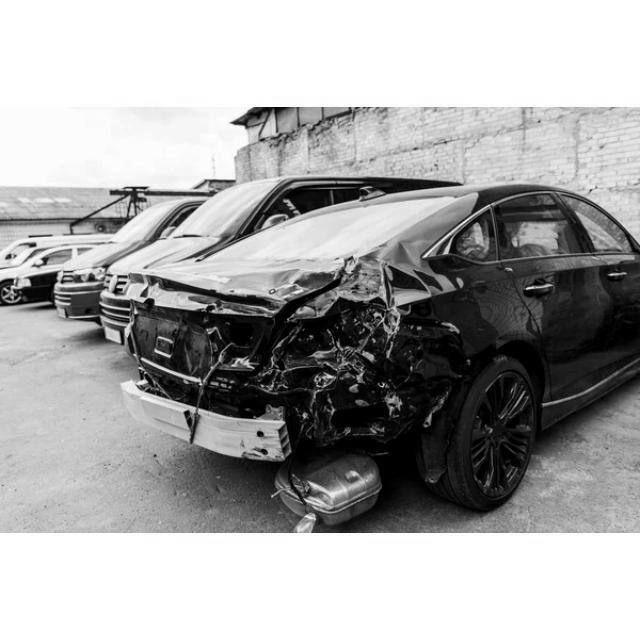Runningboard-Damage: (540, 359, 638, 429)
Taillight-Damage: (285, 316, 388, 373)
boot-dent: (148, 257, 323, 353)
quaterpanel-dent: (320, 232, 463, 476)
rear-bumper-dent: (143, 363, 382, 474)
